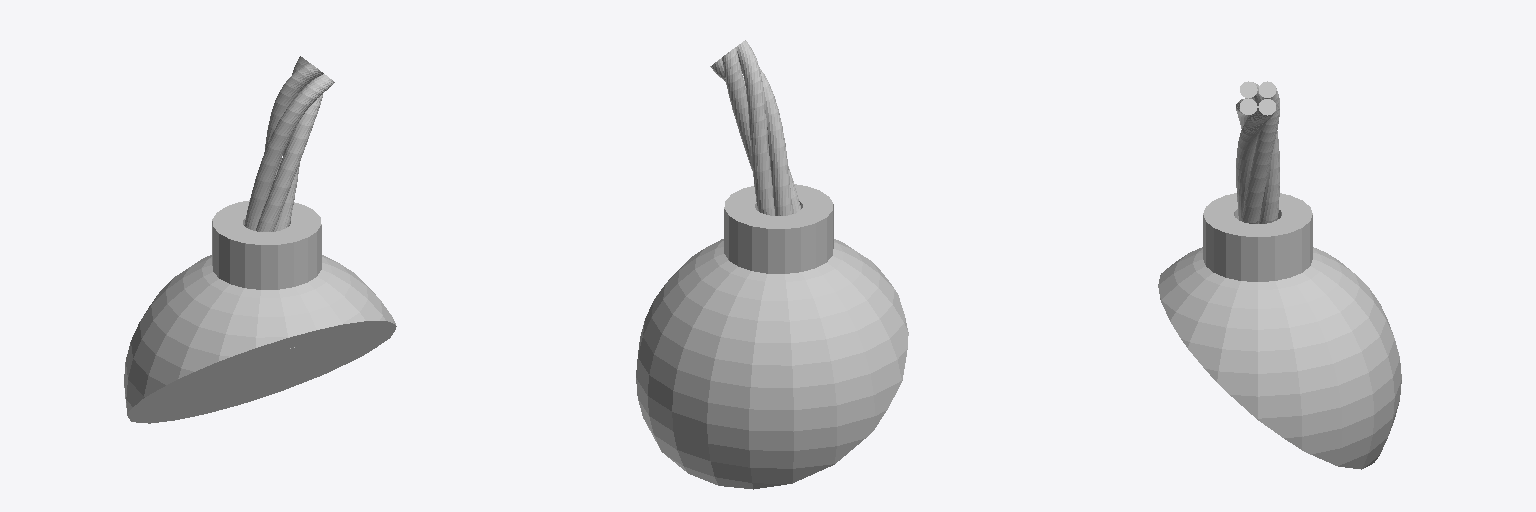
The model's file is bomb_cut_2.obj.
3 renders of one model, left to right at view 1: azimuth 30°, elevation 25°; view 2: azimuth 150°, elevation 25°; view 3: azimuth 270°, elevation 25°, orthographic.
Visible parts, largest first — view 1: mmGroup2, mmGroup4, mmGroup1; view 2: mmGroup2, mmGroup1; view 3: mmGroup2, mmGroup1.
Part boxes in pixels (bbox=[...]): mmGroup2: bbox=[124, 200, 395, 413]; mmGroup4: bbox=[127, 321, 396, 423]; mmGroup1: bbox=[244, 56, 334, 231]; mmGroup2: bbox=[636, 184, 908, 489]; mmGroup1: bbox=[710, 40, 800, 215]; mmGroup2: bbox=[1158, 193, 1401, 469]; mmGroup1: bbox=[1236, 81, 1279, 223].
Bounding box in the file's own units: 1.19 × 1.79 × 1.02.